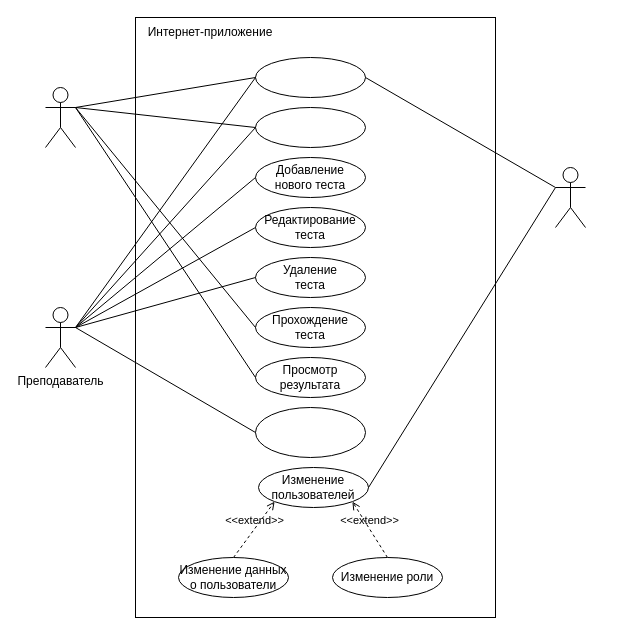
This 631x635 diagram has some shape labels left out. The centre of each missing label's shape, as x and y in pixels:
Авторизация/Регистрация: point (310, 77)
Администратор: point (570, 197)
Просмотр всех тестов: point (310, 127)
Просмотр статистики прохождения: point (310, 432)
Студент: point (60, 117)
